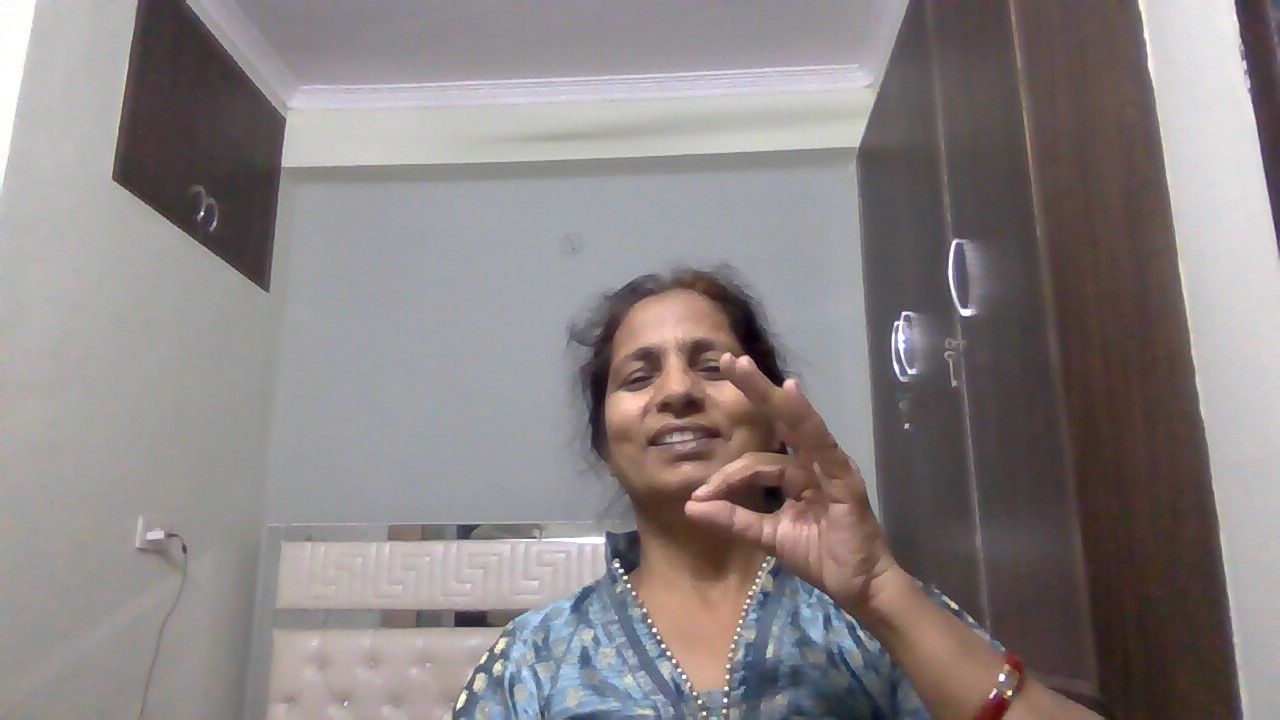Copy: (671, 342, 899, 626)
